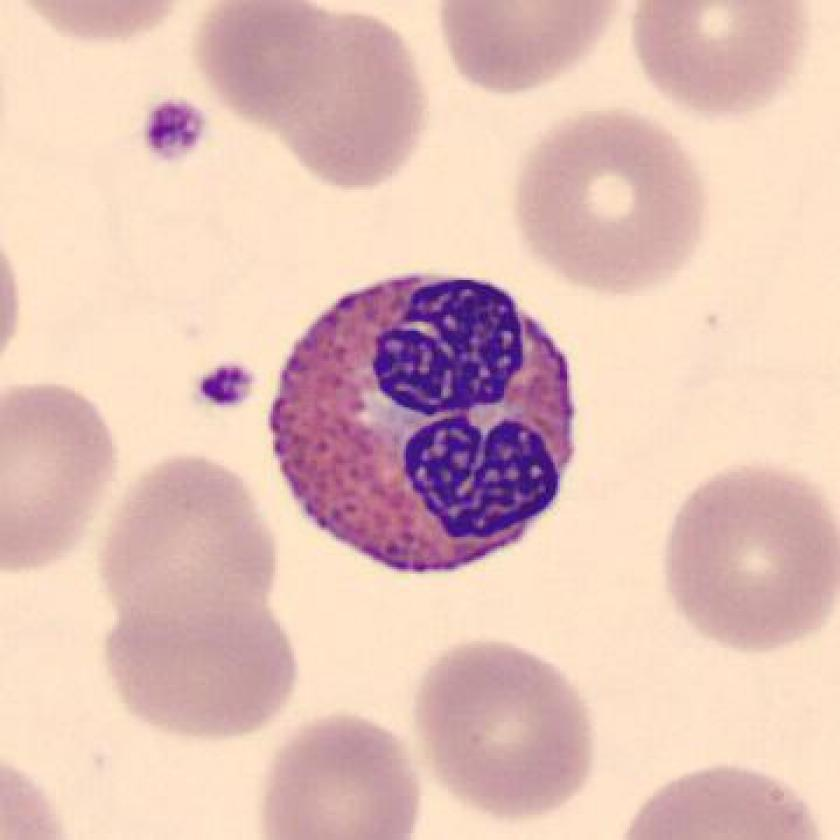eosinophil: (260, 256, 589, 587)
